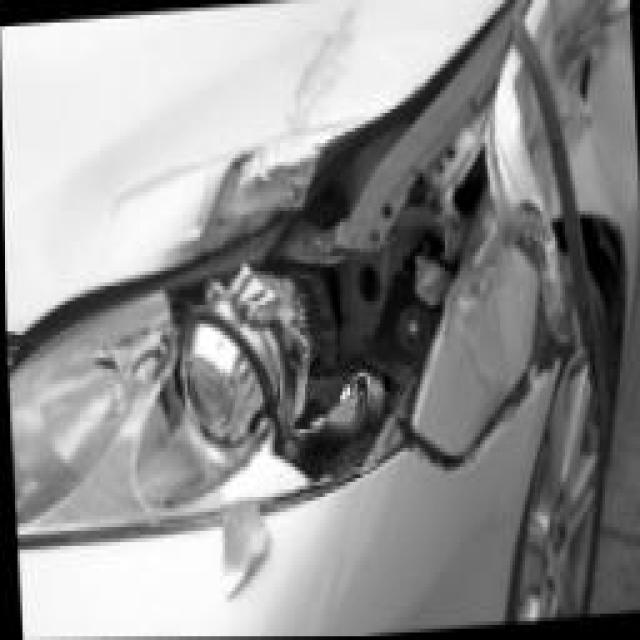Bonnet: (160, 0, 408, 221)
Fender: (438, 8, 616, 427)
Light: (8, 211, 455, 550)
